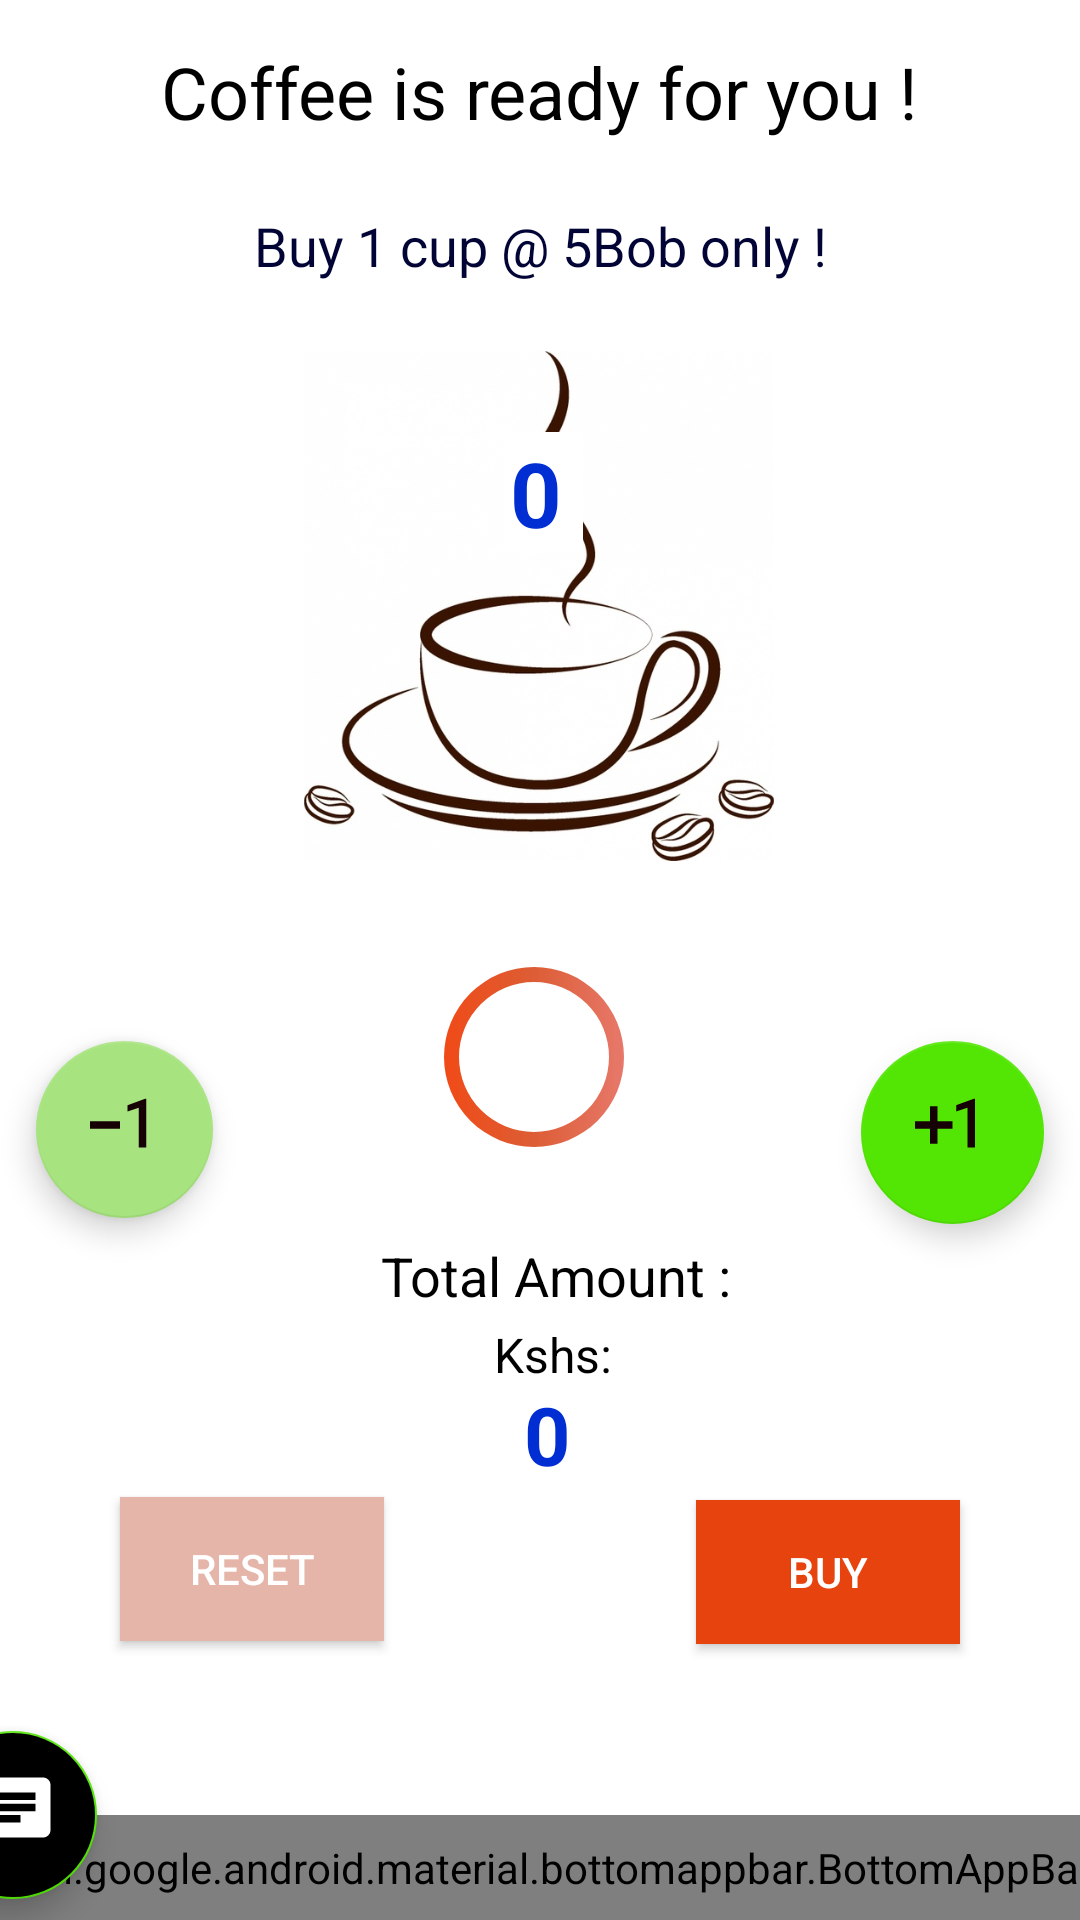

Where to tap for icons on this 1080×1920 app screen, as [x,y]:
minus: [124,1129]
plus: [952,1132]
